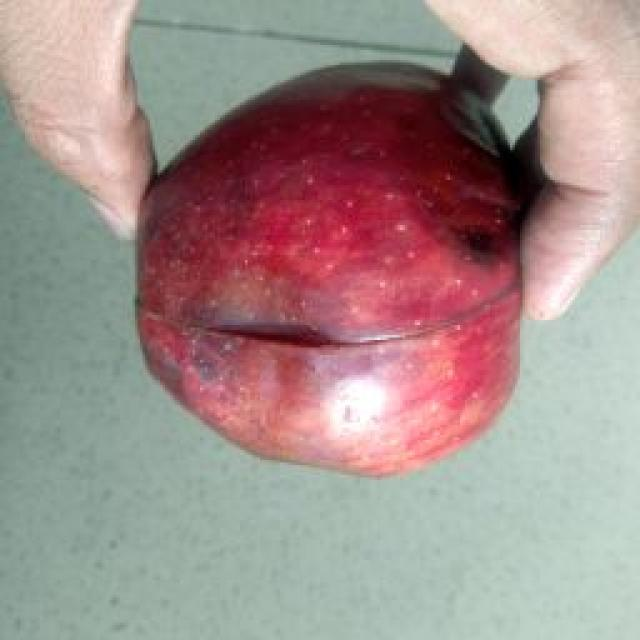Bad_Apple: (139, 65, 521, 474)
